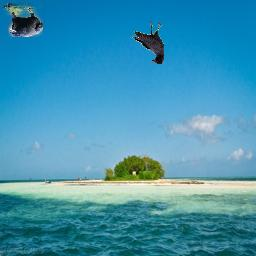Crow: (132, 22, 165, 65), (3, 3, 44, 37)
